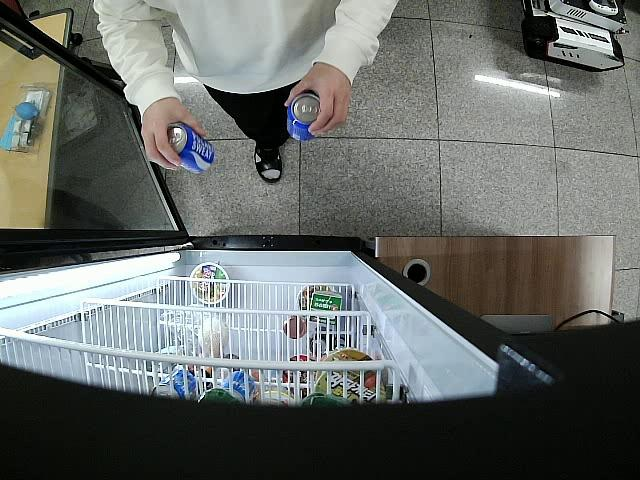00_hand: (284, 66, 351, 139), (141, 110, 209, 171)
13_pocariSweat: (163, 121, 213, 175), (287, 92, 323, 143)
